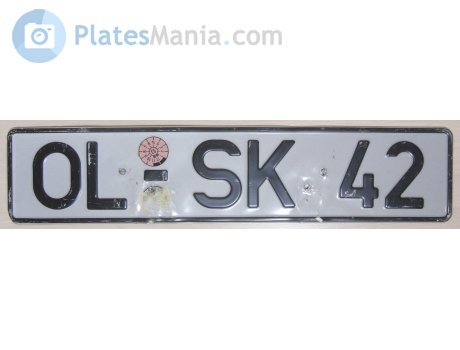License Plates: (30, 138, 440, 209)
